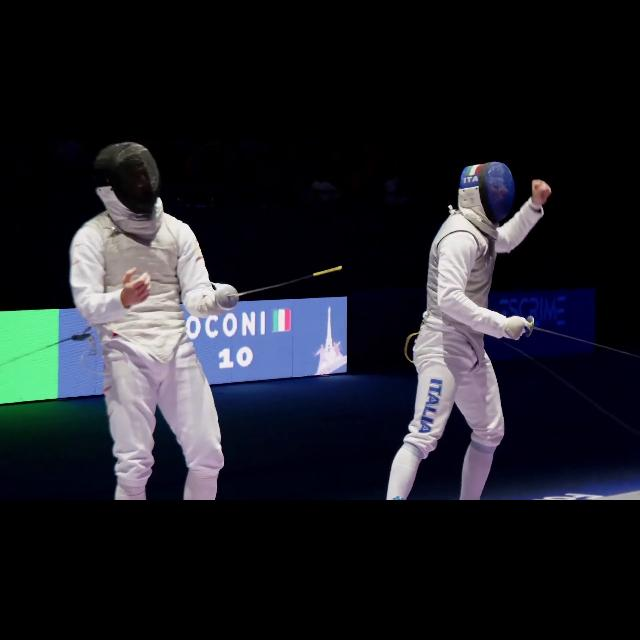blade: (214, 258, 350, 312), (514, 312, 638, 368)
